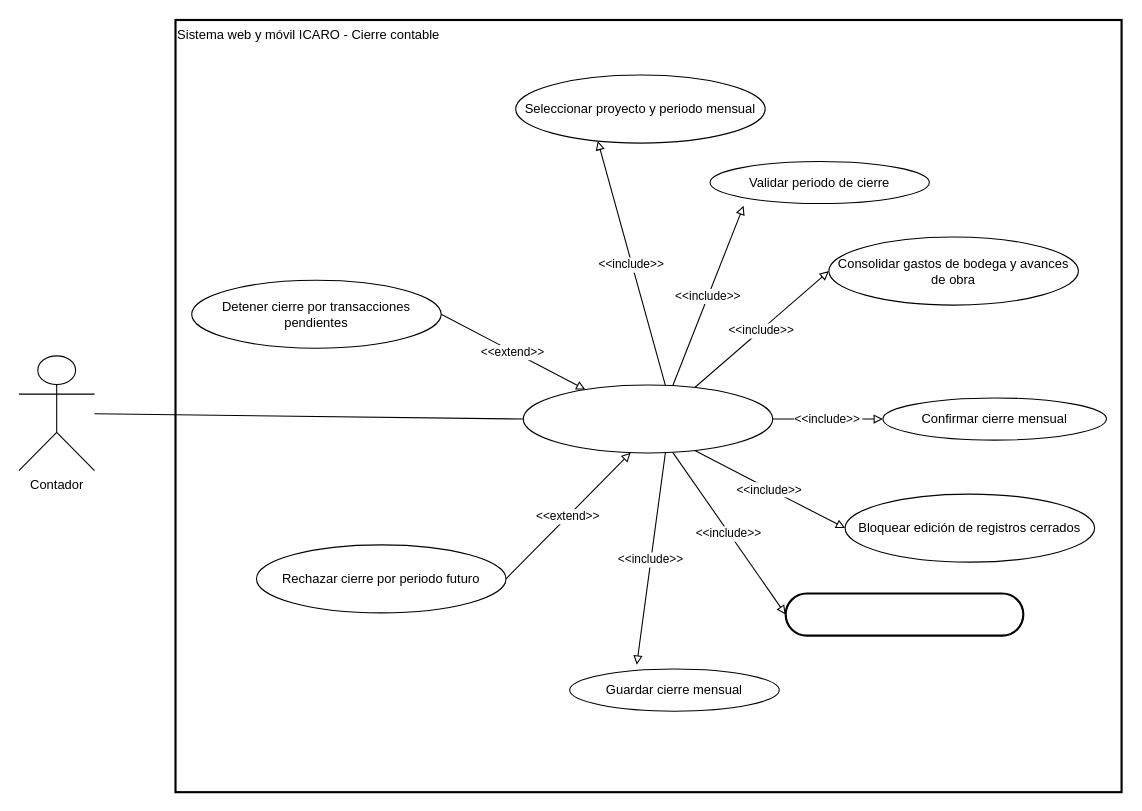
Some shapes in this 1142 by 811 pixel diagram are drawn without their labels. The centre of each missing label's shape, as x and y in pixels:
Ejecutar cierre contable mensual: pixel 647 418
Generar hash de integridad: pixel 904 614
